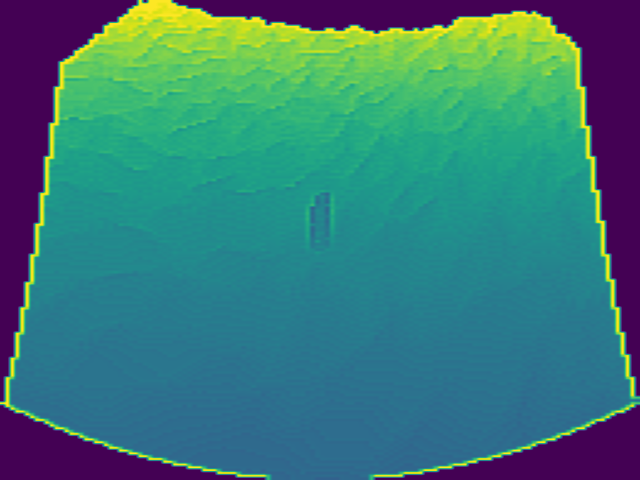car_0198: (307, 194, 332, 246)
